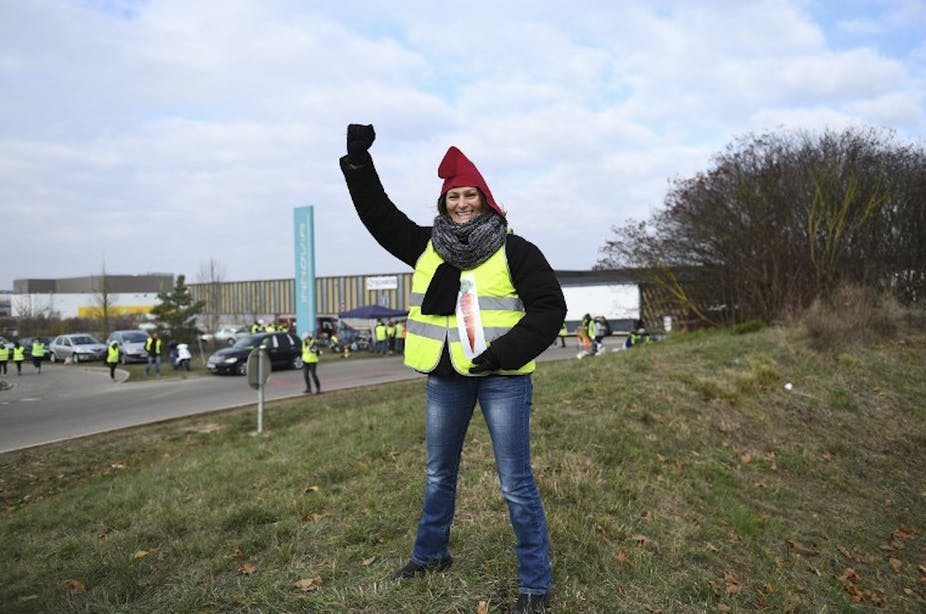without_mask: (447, 187, 481, 225)
